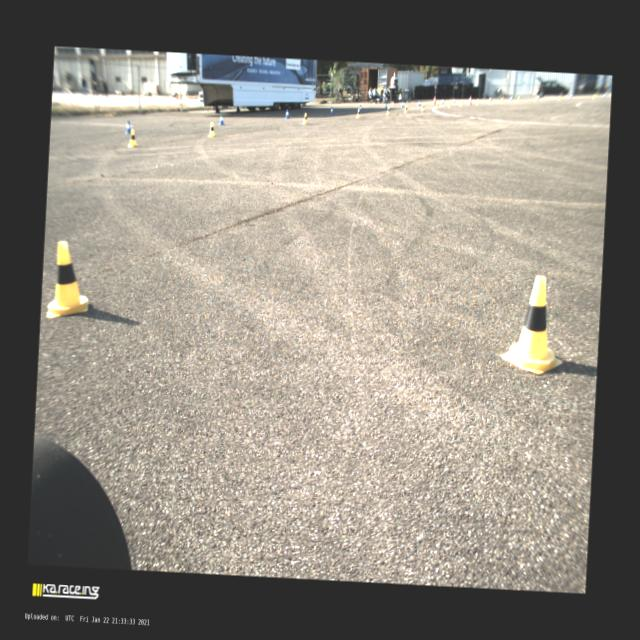blue_cone: (125, 120, 132, 134), (218, 113, 226, 125), (284, 109, 290, 119), (329, 106, 334, 115), (385, 102, 388, 110), (441, 98, 444, 105), (360, 104, 362, 113), (402, 101, 404, 108), (418, 101, 420, 106)
large_orange_cone: (468, 96, 472, 105), (433, 95, 436, 105)
yellow_cone: (500, 274, 566, 375), (46, 241, 90, 320), (128, 130, 138, 148), (208, 122, 216, 137), (302, 113, 308, 124), (356, 108, 361, 118), (386, 106, 390, 115), (404, 105, 408, 113), (448, 100, 452, 108), (422, 104, 425, 112), (436, 102, 439, 109), (460, 100, 462, 106)
